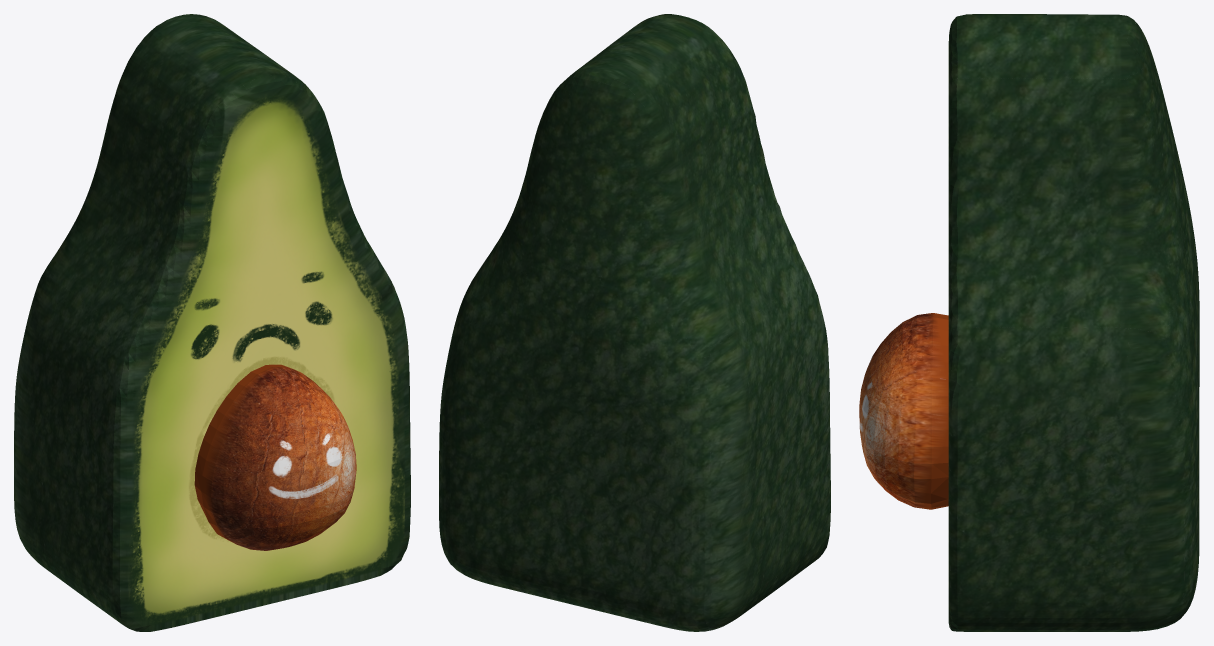
File: Avocado.glb
The picture shows the model from 3 angles, left to right: view 1: azimuth 30°, elevation 25°; view 2: azimuth 150°, elevation 25°; view 3: azimuth 270°, elevation 25°; orthographic projection. The views are drawn at different scales.
Visible parts, largest first — view 1: 상자_1_상자, 쿼드_구체_1_쿼드_구체; view 2: 상자_1_상자; view 3: 상자_1_상자, 쿼드_구체_1_쿼드_구체.
Boxes of the visible parts, box(x1,y1,x2,y2) form: 상자_1_상자: box(14, 14, 410, 631); 쿼드_구체_1_쿼드_구체: box(194, 364, 356, 550); 상자_1_상자: box(439, 14, 830, 631); 상자_1_상자: box(948, 14, 1199, 631); 쿼드_구체_1_쿼드_구체: box(859, 313, 948, 509).
Size of the model in its own units: 0.9998 by 1.69 by 0.9449.
Materials: 2 (2 with a texture image).
